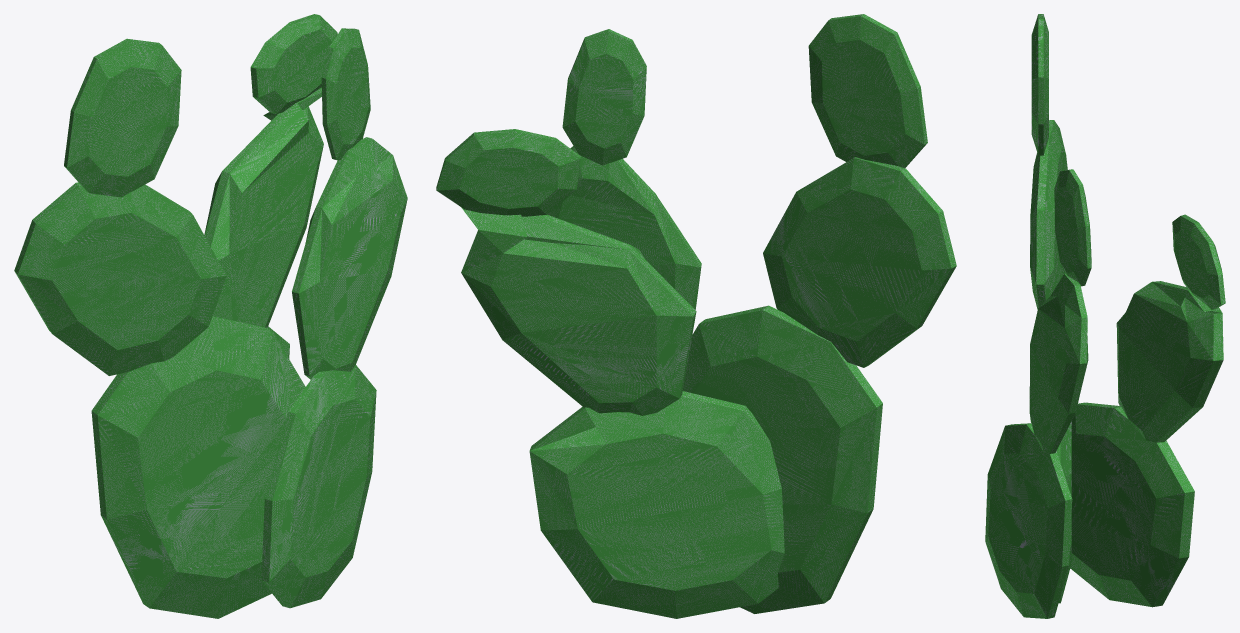
Rendered from Cactus_10.fbx.
3 views of the same model, side by side, from view 1: azimuth 30°, elevation 25°; view 2: azimuth 150°, elevation 25°; view 3: azimuth 270°, elevation 25° (orthographic). The views are drawn at different scales.
Visible parts, largest first — view 1: Model; view 2: Model; view 3: Model.
Boxes of the visible parts, left/top/right/bottom form: Model: left=14, top=14, right=407, bottom=618; Model: left=436, top=14, right=956, bottom=618; Model: left=985, top=14, right=1225, bottom=618.
Size of the model in its own units: 196 by 271 by 112.
